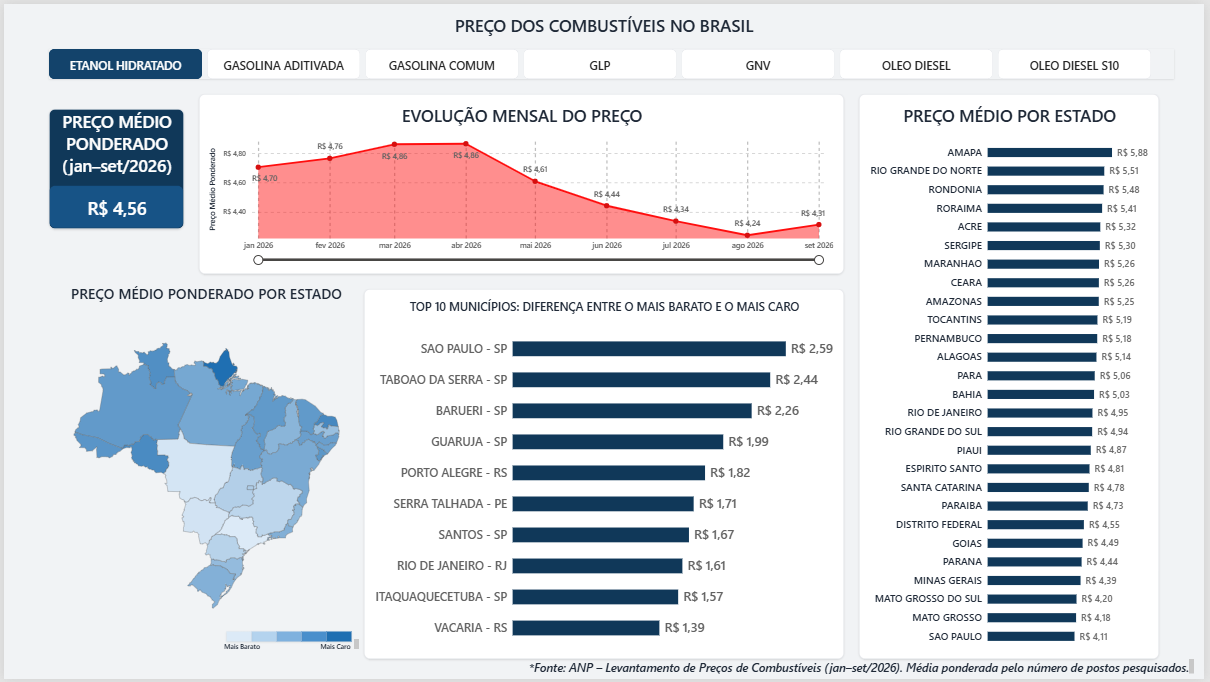

This screenshot's page, from the dashboard's own definition file:
{"tool":"powerbi","page":{"name":"VISÃO GERAL","canvas":[1920,1080],"ordinal":0},"visuals":[{"type":"slicer","title":"PRODUTO","fields":{"Values":["dProduto.PRODUTO"]},"box":[0,0,568,346],"z":0},{"type":"cardVisual","title":"Preço médio ponderado (jan–set/2026)","fields":{"Data":["fPrecos.Preço Médio Ponderado X"]},"box":[580,0,290,346.7],"z":1000},{"type":"lineChart","title":"Evolução mensal do preço","fields":{"Y":["fPrecos.Preço Médio Ponderado X"],"Category":["fPrecos.MÊS"]},"box":[870,0,1018,346],"z":2000},{"type":"clusteredBarChart","title":"Preço médio por estado","fields":{"Category":["dLocal.ESTADO"],"Y":["fPrecos.Preço Médio Ponderado X"]},"box":[870,346,1018,676],"z":3000},{"type":"clusteredBarChart","title":"TOP 10 MUNICÍPIOS: DIFERENÇA ENTRE O MAIS BARATO E O MAIS CARO","fields":{"Category":["dLocal.Município - Estado"],"Y":["fPrecos.Amplitude Média"]},"box":[0,346,870,676],"z":4000},{"type":"textbox","box":[410,1036,1510,44],"z":6001}]}

Visuals, with their boxes in screenshot pixels (x1, y1, x2, y2), scaled from the page's 1920x1080 canvas onto the 1210x682 screenshot:
"PRODUTO" slicer: <box>0,0,358,218</box>
"Preço médio ponderado (jan–set/2026)" cardVisual: <box>366,0,548,219</box>
"Evolução mensal do preço" lineChart: <box>548,0,1190,218</box>
"Preço médio por estado" clusteredBarChart: <box>548,218,1190,645</box>
"TOP 10 MUNICÍPIOS: DIFERENÇA ENTRE O MAIS BARATO E O MAIS CARO" clusteredBarChart: <box>0,218,548,645</box>
textbox: <box>258,654,1209,681</box>
